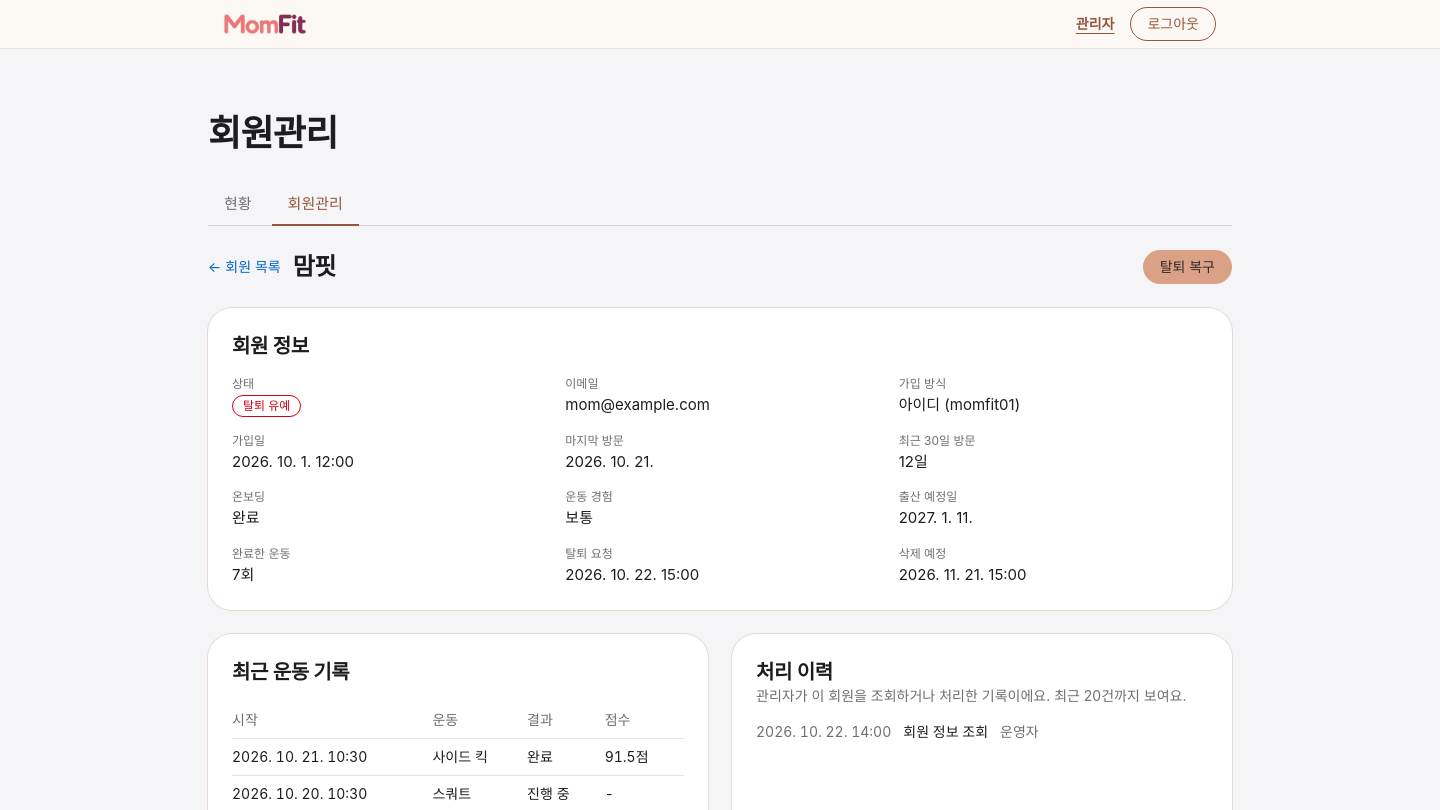
회원 상세 › 복구하면 이용 중 상태로 바뀐다
This screenshot has width=1440, height=810.
Expected: the element "회원 정보" is shown, x1=208 y1=308 x2=1232 y2=610
Click the button "탈퇴 복구" at [1187, 266], box x1=1143 y1=250 x2=1232 y2=284
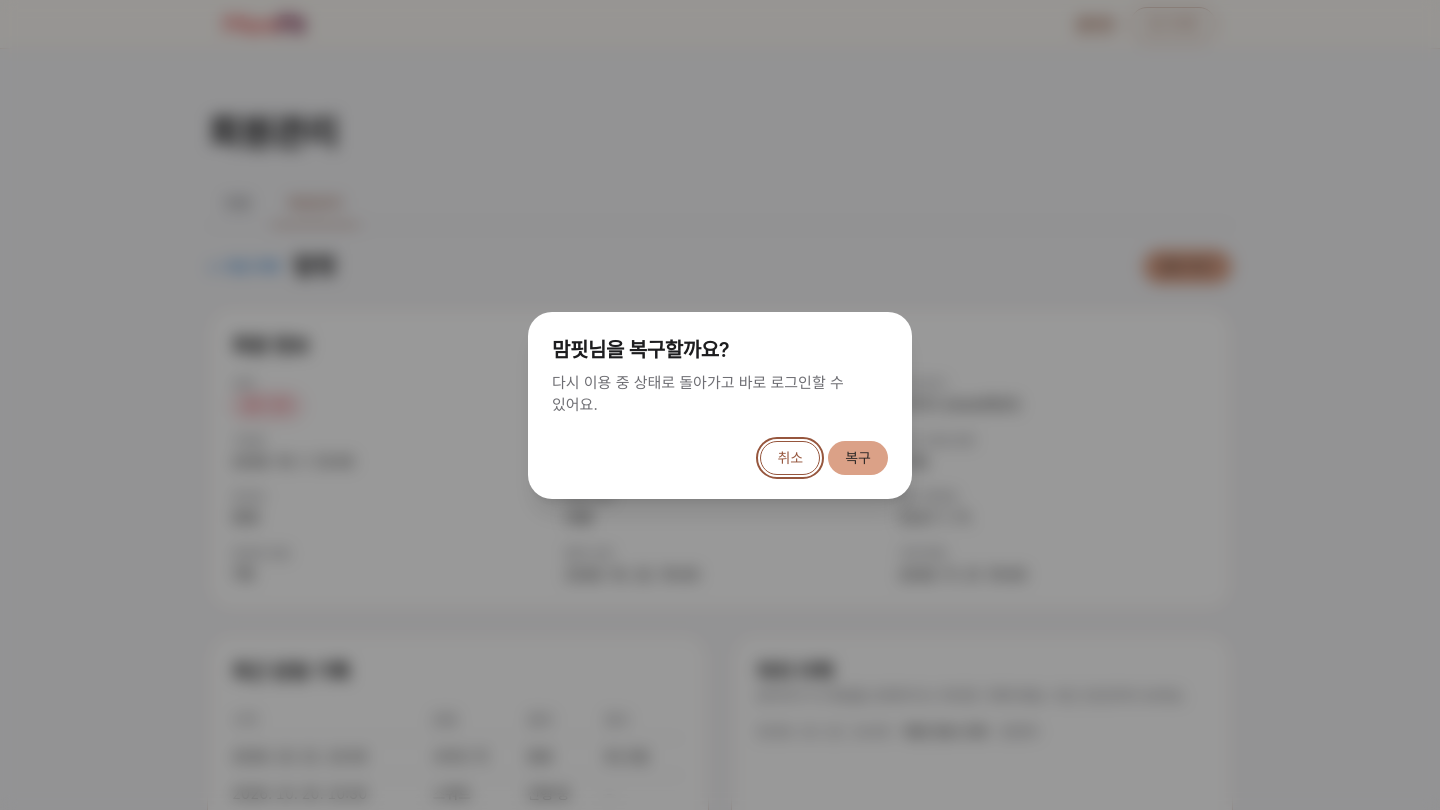
Click the button "복구" at [858, 458], box x1=828 y1=440 x2=888 y2=474
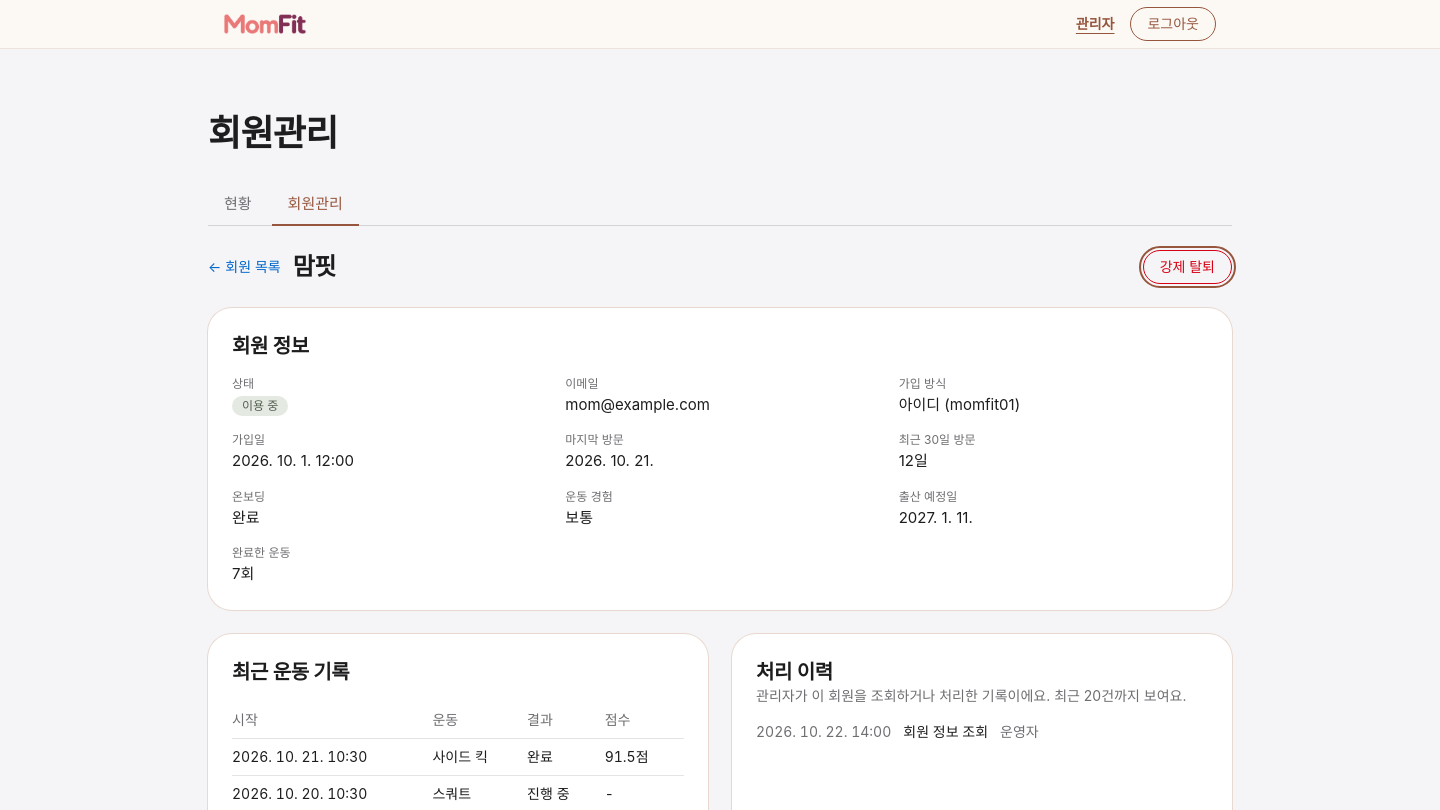
Expected: the button "강제 탈퇴" is shown, x1=1143 y1=250 x2=1232 y2=284
